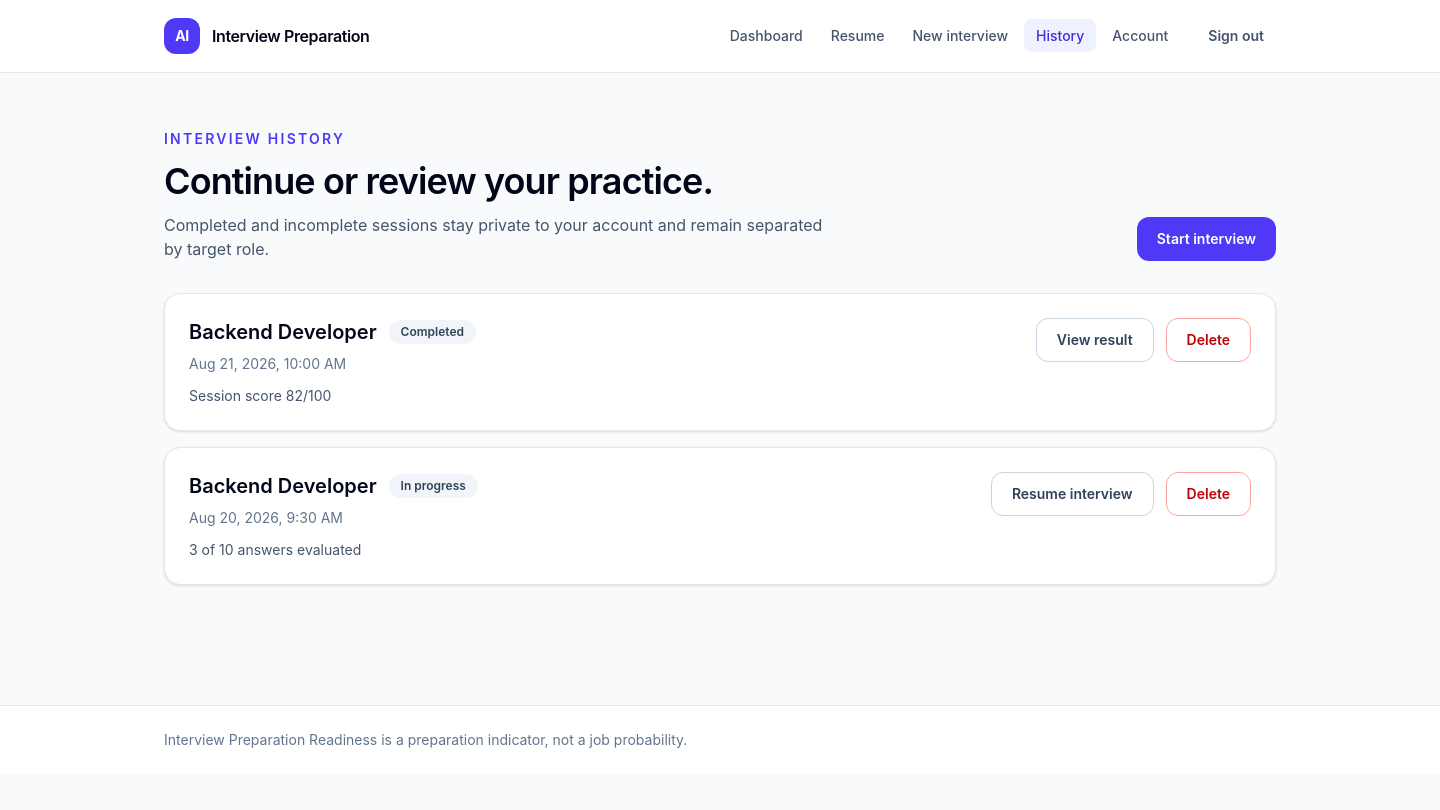
it: Phase 4 dashboard and history › shows completed and incomplete history actions and confirms recalculation on deletion
Expected: the text "Session score 82/100" is shown, [189,387,332,404]
Expected: the text "3 of 10 answers evaluated" is shown, [189,541,361,558]
Click the button "Delete" next to "View result" at (1208, 340), box [1166,318,1251,362]
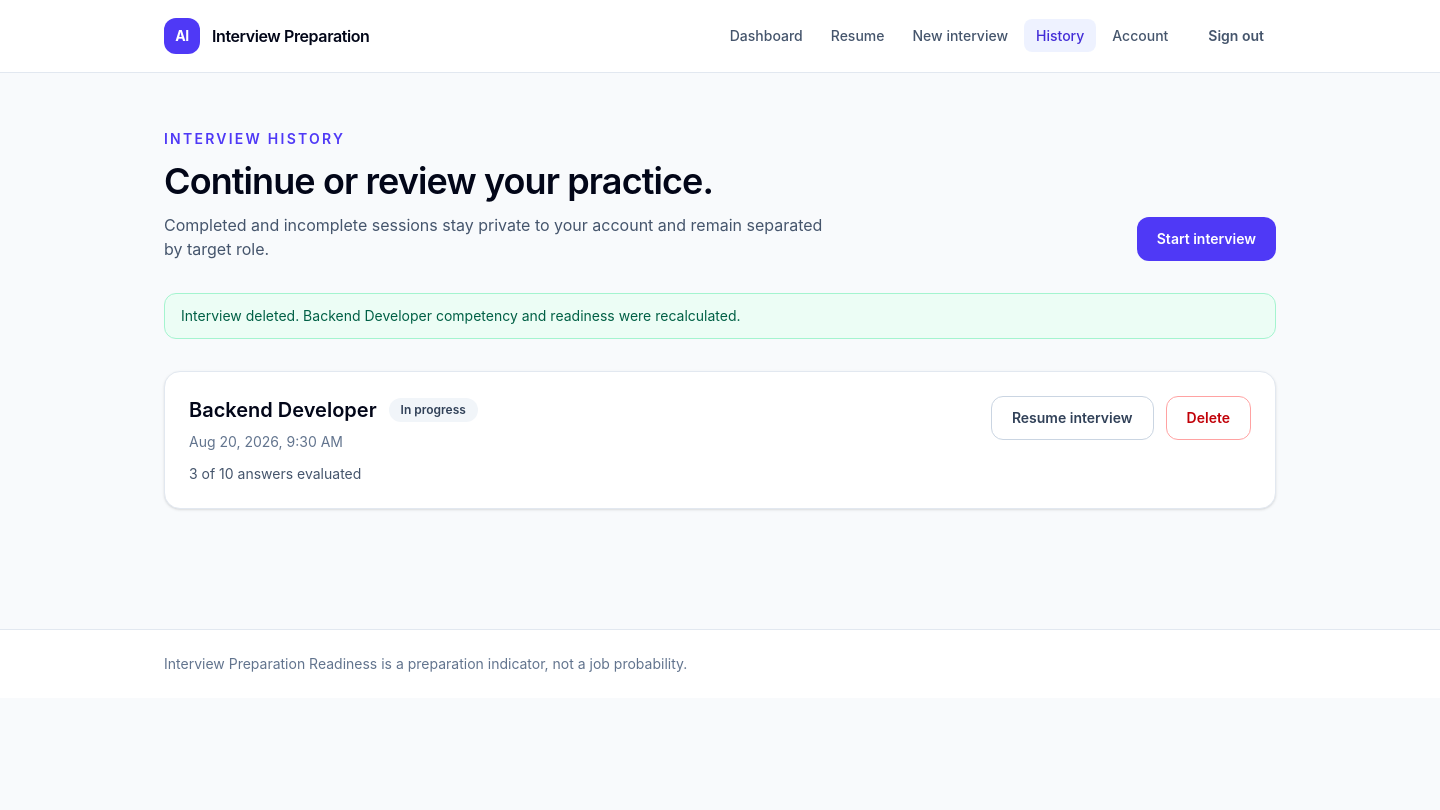
Now the text "Interview deleted. Backend Developer competency and readiness were recalculated." is shown, box [164,293,1276,339]
Now the text "Session score 82/100" is gone
